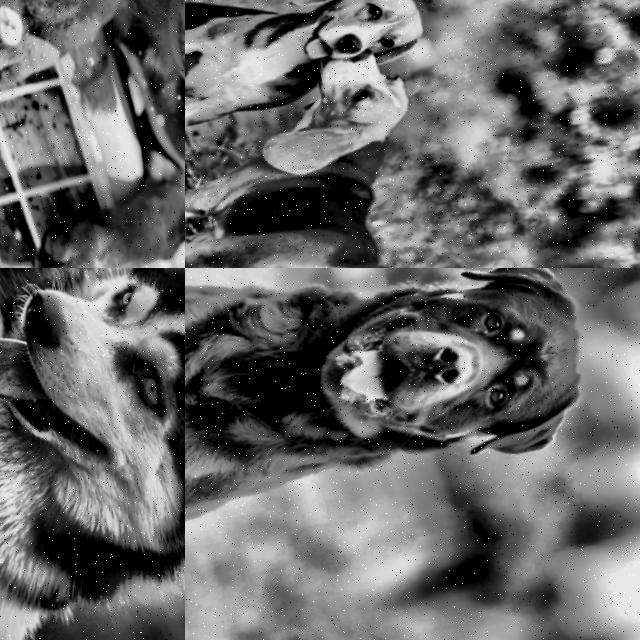beagle: (232, 22, 444, 199), (272, 0, 460, 97)
husky: (0, 268, 185, 640)
rottweiler: (210, 268, 640, 534), (102, 0, 185, 265)
